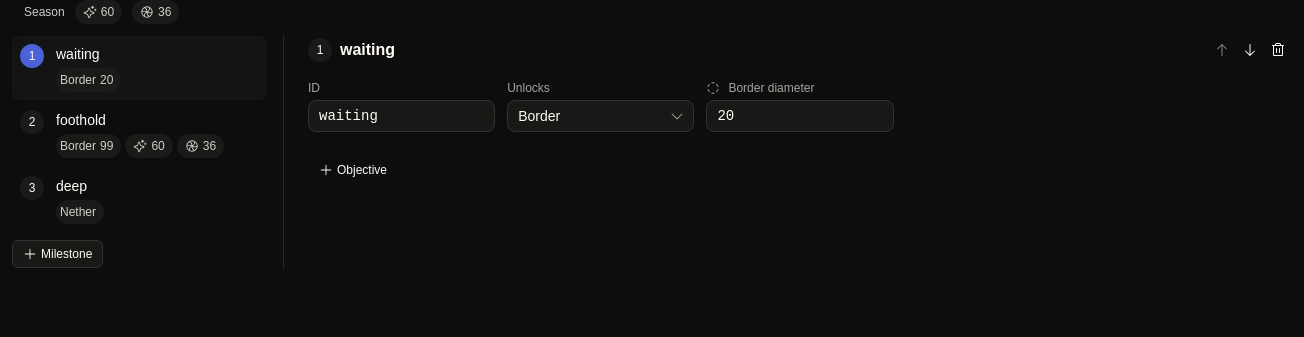
MilestonesEditor › drops the unsaved track with Discard and shows the stored order again
This screenshot has width=1304, height=337.
Click the button "2 foothold Border 99 60 36" at [140, 134], box [12,102,267,166]
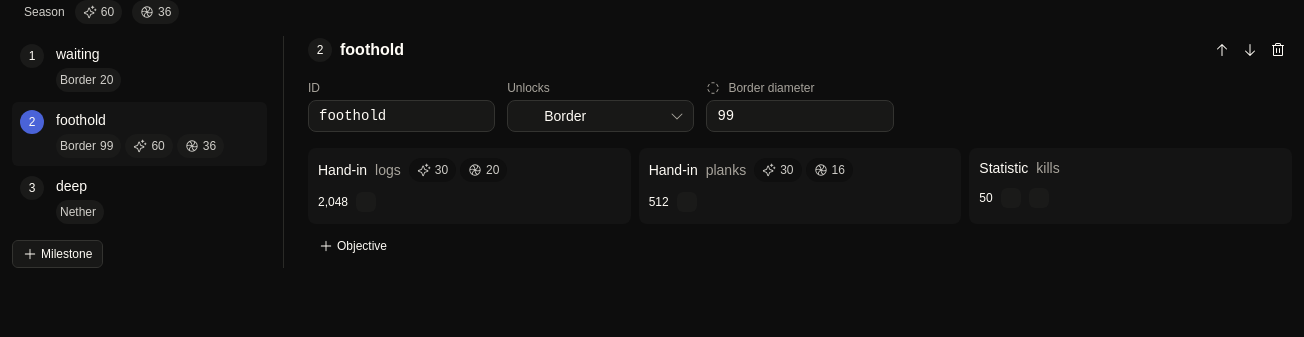
Click the button named "Move foothold up" at [1222, 50], box [1208,36,1236,64]
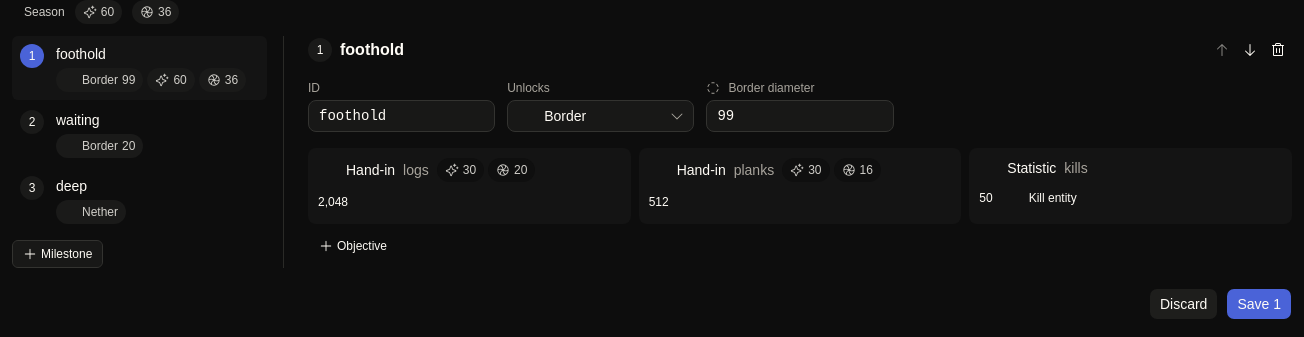
Click the button "Discard" at [1184, 304], box [1149,288,1218,320]
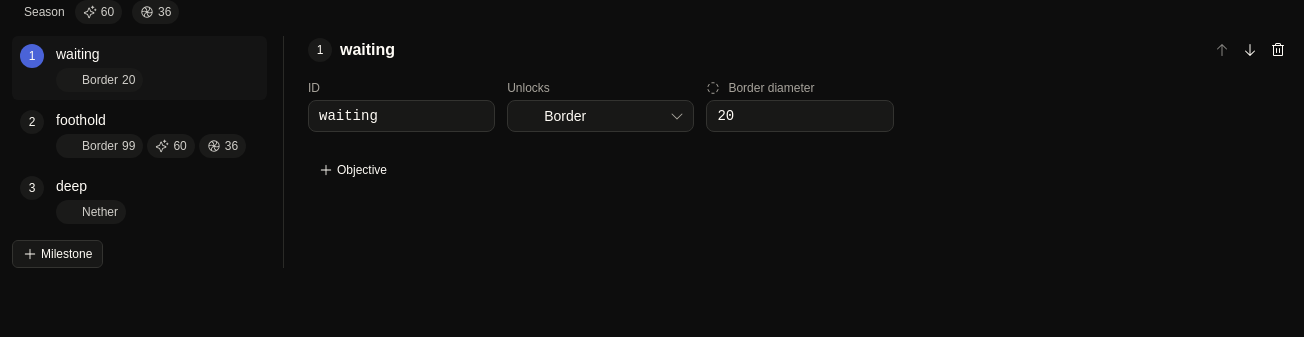
Now the button "Save 1" is gone
